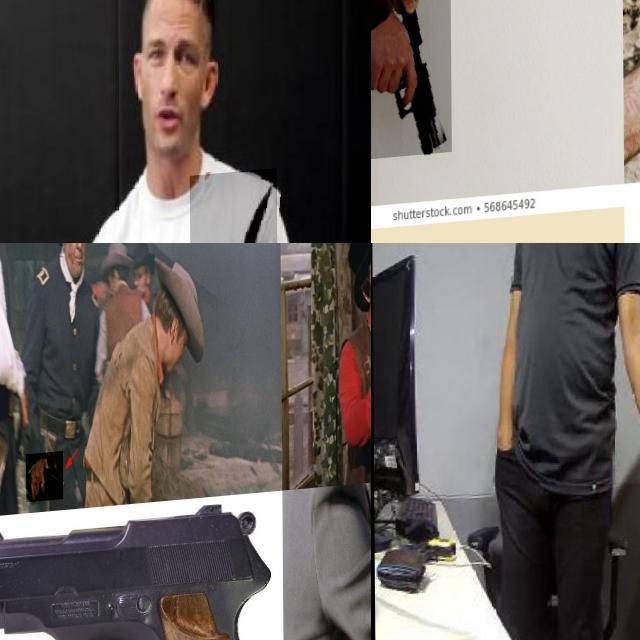-: (189, 178, 277, 243)
gun-knife-thesis - v11 Yolov5 augmented: (0, 497, 279, 640), (371, 0, 451, 162), (26, 453, 62, 504)
